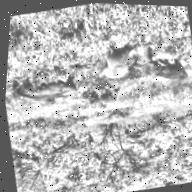boar: (9, 60, 84, 118), (99, 28, 161, 82), (151, 55, 192, 84)
